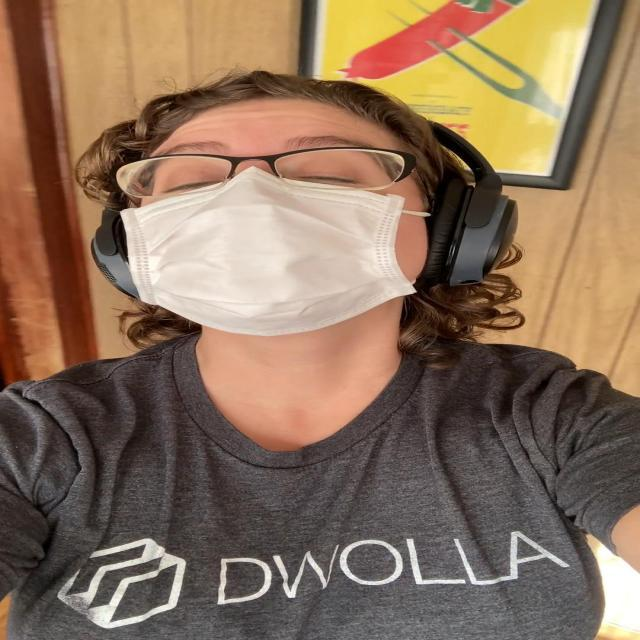no hat: (124, 99, 434, 335)
